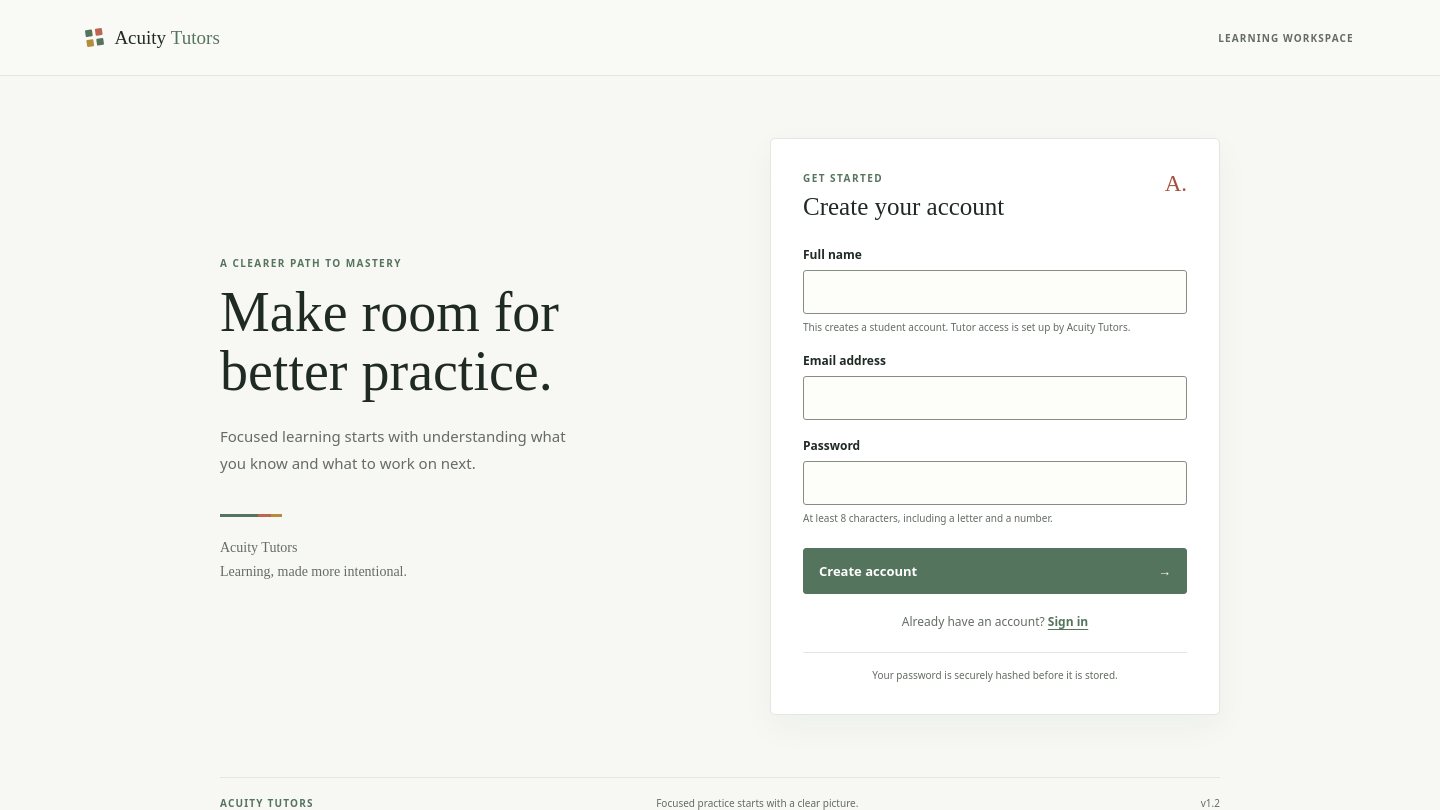
A11Y: forms › server field errors are attached to the matching field
Expected: the heading "Create your account" is shown, [803,193,1004,221]
Type "New Student" into the field labelled "Full name". click: [995, 292]
box: [803,270,1187,314]
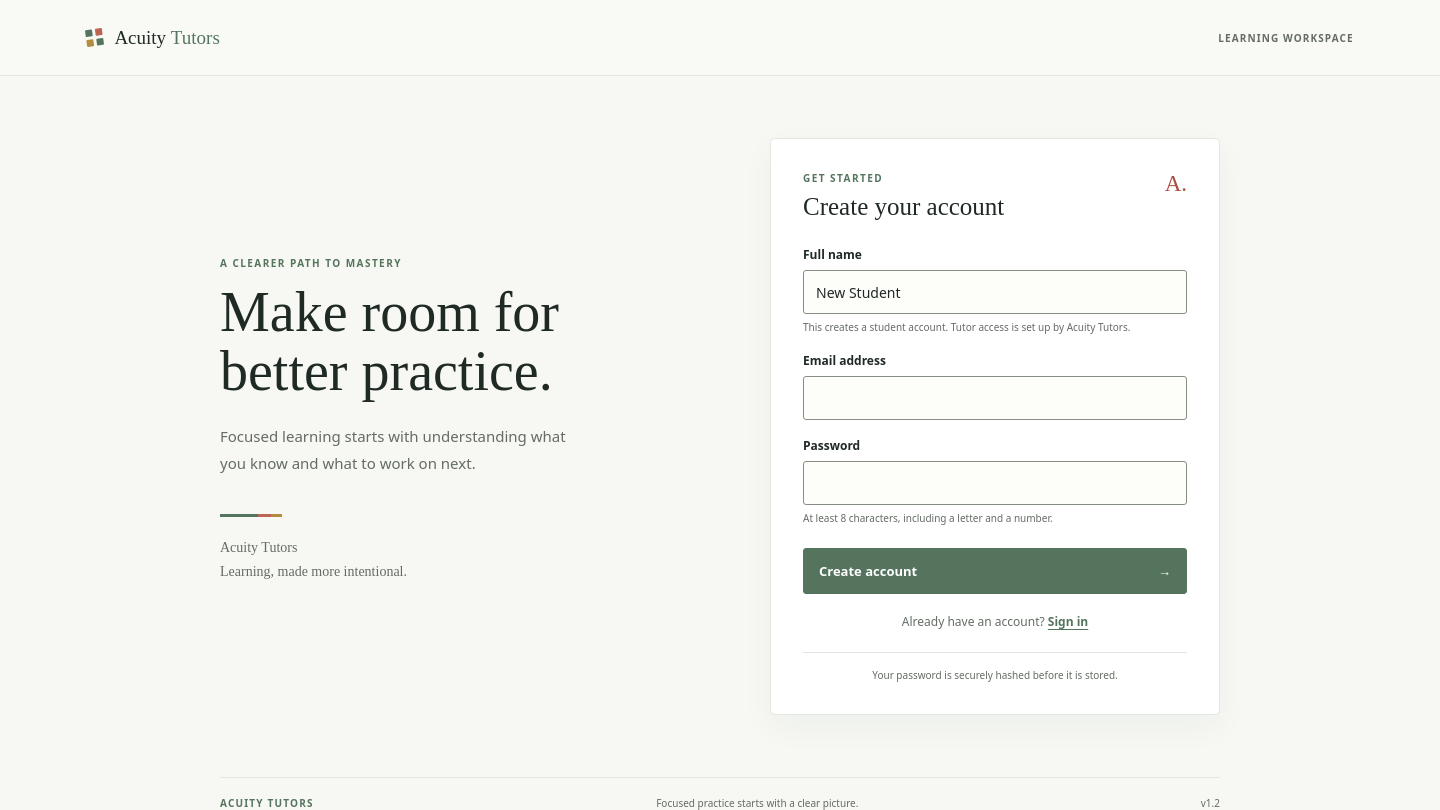
Type "new@example.com" into the field labelled "Email address". click: [995, 398]
box: [803,376,1187,420]
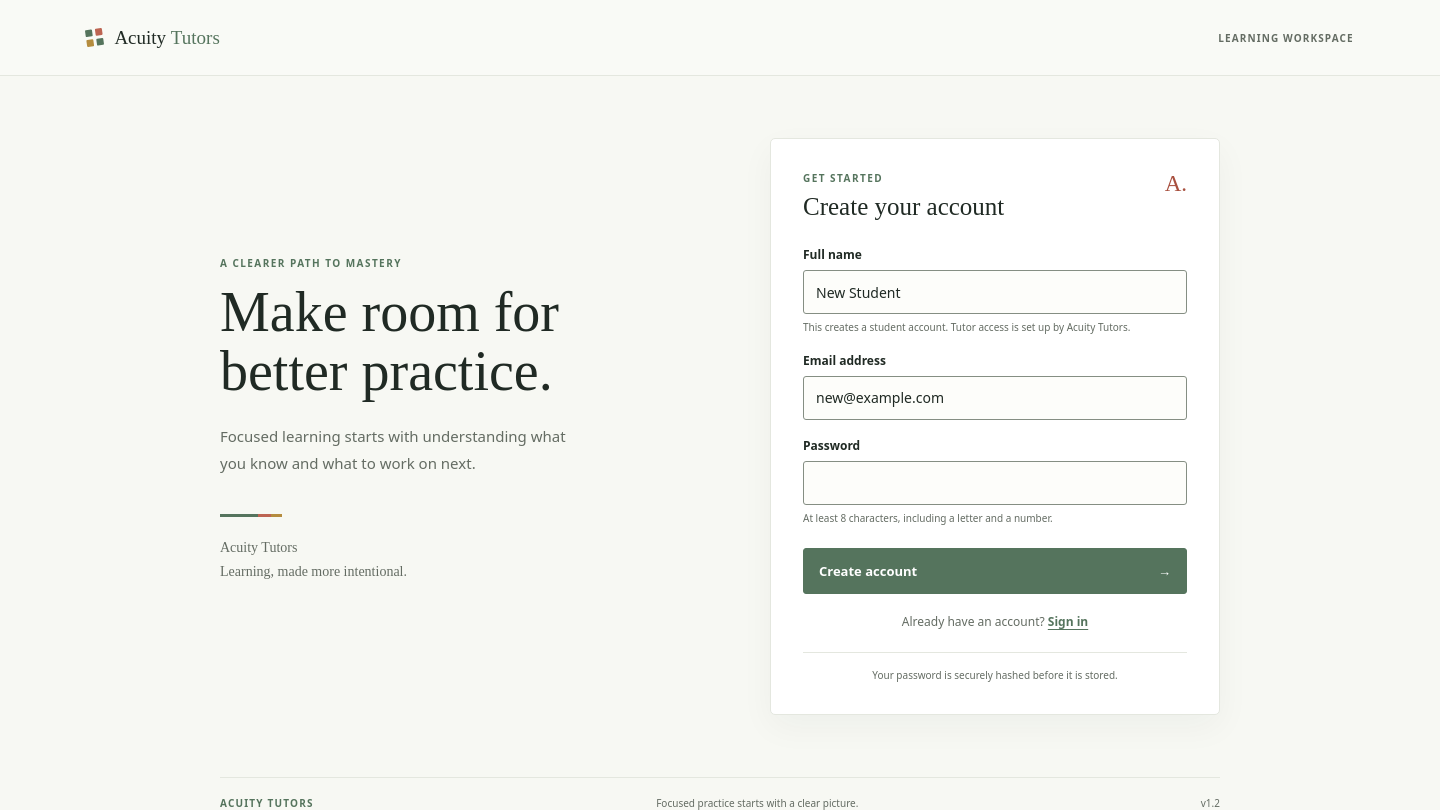
Type "Student2026" into the password field labelled "Password". click: [995, 482]
box: [803,460,1187,504]
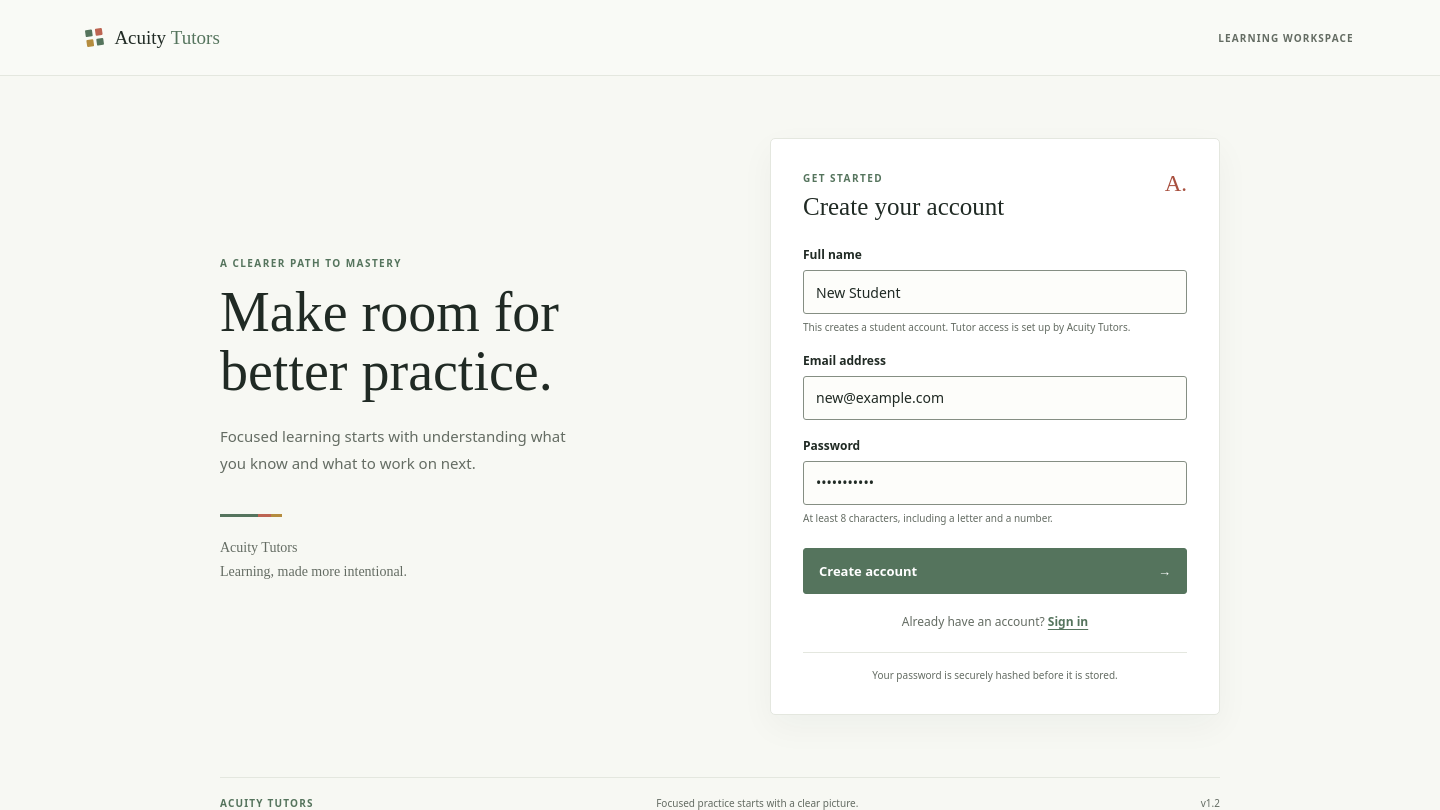
Click the button "Create account →". click: [868, 571]
box: [803,548,1187,594]
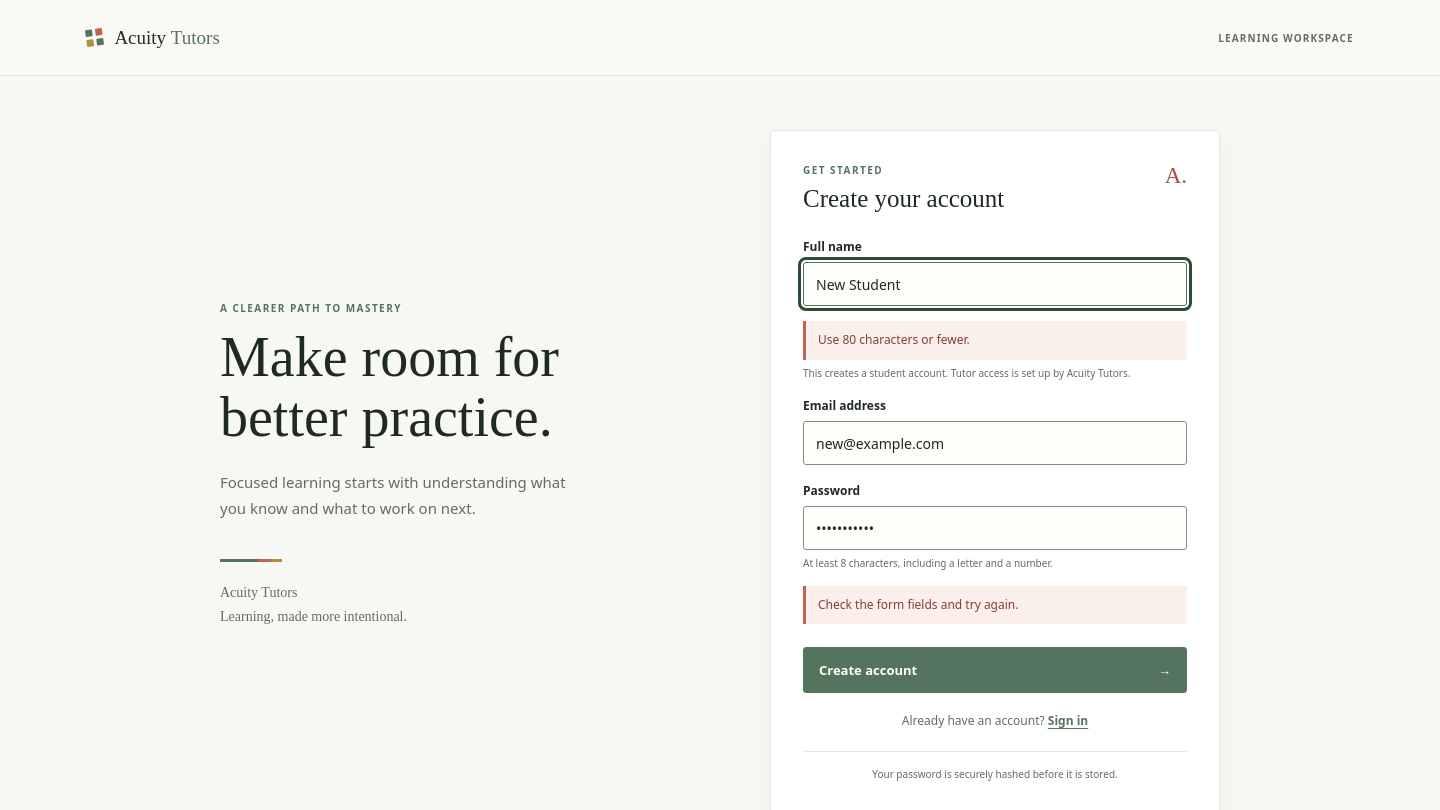
Now the text "Use 80 characters or fewer." is shown, box [803,321,1187,360]
